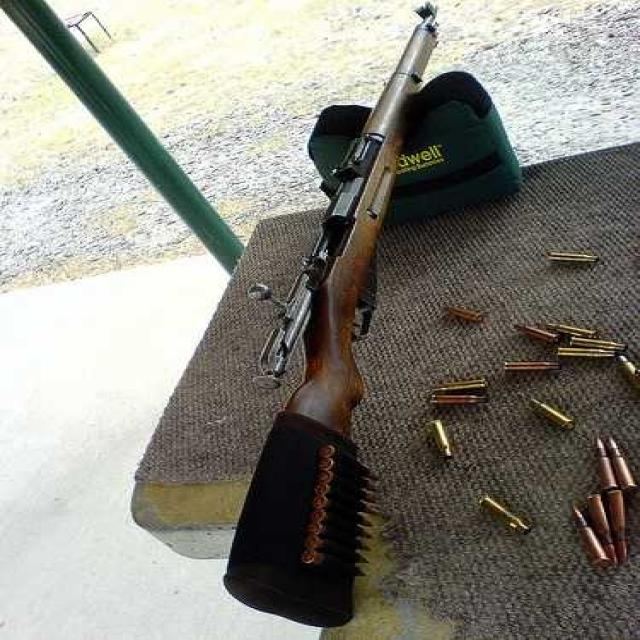heavyweapon: (226, 1, 489, 633)
